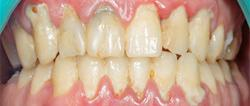LLCI_healthy: (128, 58, 150, 96)
LLC_healthy: (179, 55, 202, 102)
LLLI_mdecay: (151, 52, 178, 99)
LRCI_healthy: (107, 56, 127, 88)
LRC_healthy: (51, 57, 77, 97)
LRLI_healthy: (78, 56, 104, 98)
ULCI_healthy: (125, 3, 163, 57)
ULC_healthy: (191, 7, 215, 62)
ULLI_healthy: (163, 3, 189, 55)
URCI_mdecay: (85, 3, 125, 56)
URC_mdecay: (24, 1, 58, 63)
URLI_healthy: (58, 3, 86, 55)
